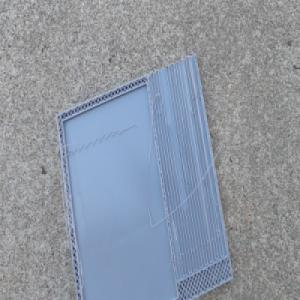PlasticPart: (54, 50, 234, 299)
